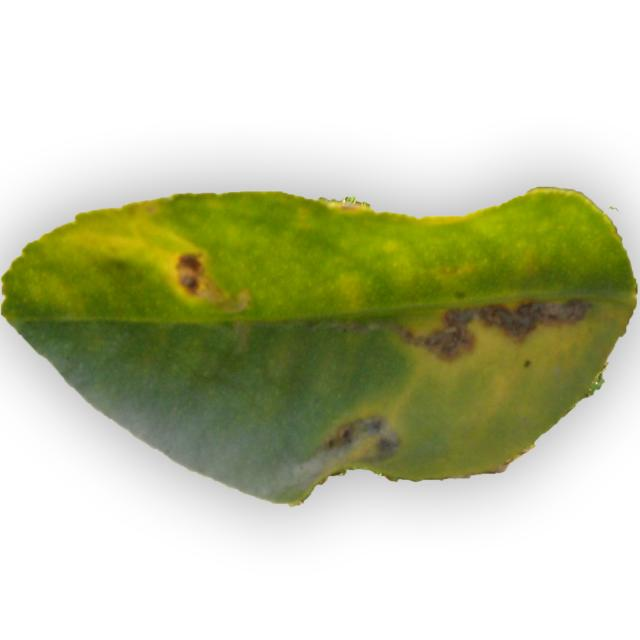canker: (8, 177, 620, 493)
